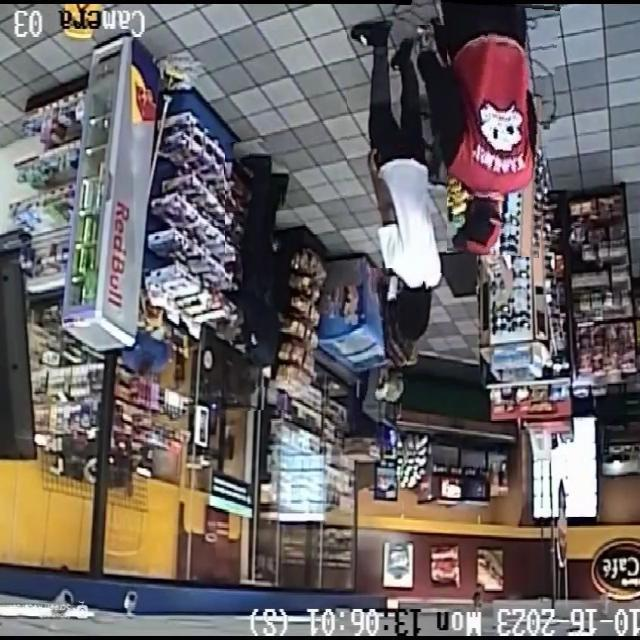Normal: (396, 0, 556, 255), (347, 25, 447, 341), (225, 142, 287, 410), (367, 268, 421, 403)
